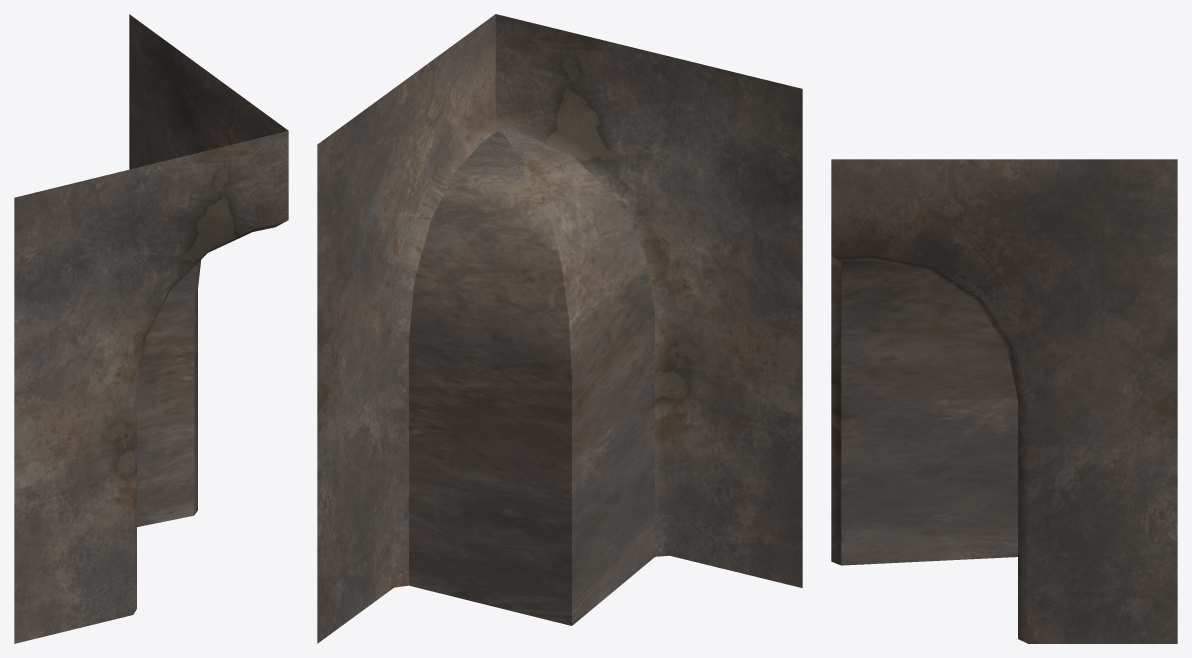
The model's file is SD2_Walldet_corner.fbx.
3 views of the same model, side by side, from view 1: azimuth 30°, elevation 25°; view 2: azimuth 150°, elevation 25°; view 3: azimuth 270°, elevation 25° (orthographic). The views are drawn at different scales.
Parts seen in each view (by area): view 1: SD2_walldet_corner_lp; view 2: SD2_walldet_corner_lp; view 3: SD2_walldet_corner_lp.
Boxes of the visible parts, <box> form: SD2_walldet_corner_lp: <box>14,14,288,643</box>; SD2_walldet_corner_lp: <box>317,14,802,643</box>; SD2_walldet_corner_lp: <box>831,159,1177,643</box>.
Bounding box in the file's own units: 64.36 × 64.8 × 100.
